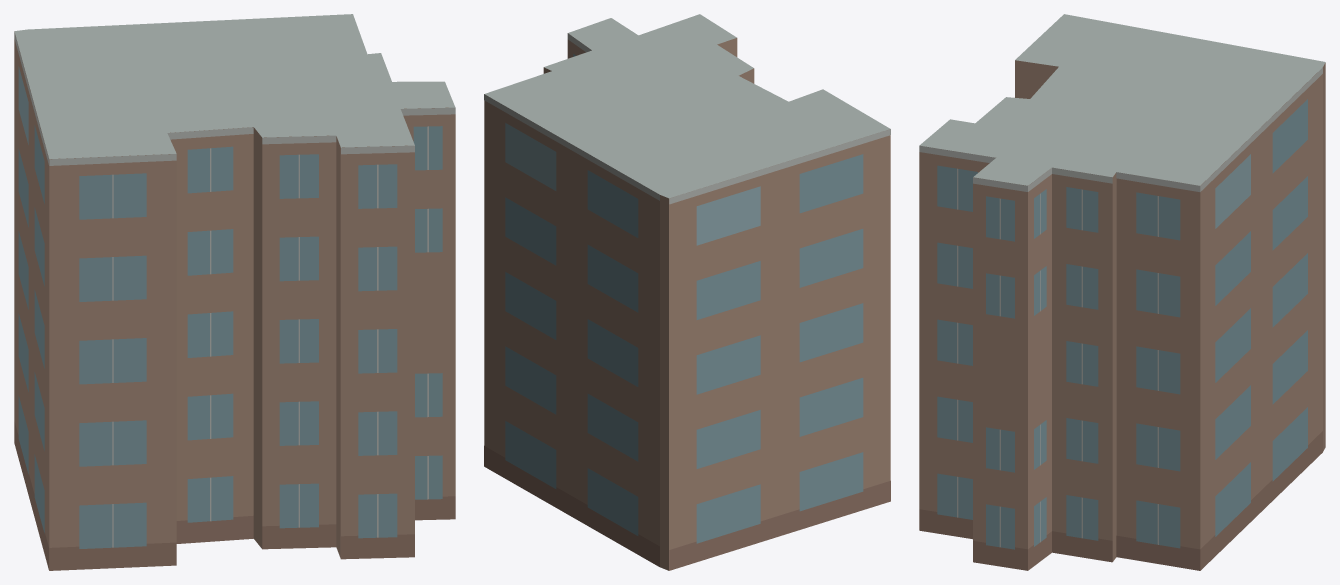
Rendered from survey-upis-32881993.glb.
3 views of the same model, side by side, from view 1: azimuth 30°, elevation 25°; view 2: azimuth 150°, elevation 25°; view 3: azimuth 270°, elevation 25° (orthographic). The views are drawn at different scales.
Visible parts, largest first — view 1: survey-upis-32881993.tmp; view 2: survey-upis-32881993.tmp; view 3: survey-upis-32881993.tmp.
Boxes of the visible parts, bbox=[...] form: survey-upis-32881993.tmp: bbox=[14, 14, 455, 570]; survey-upis-32881993.tmp: bbox=[484, 14, 890, 570]; survey-upis-32881993.tmp: bbox=[919, 14, 1325, 570].
Size of the model in its own units: 14.08 by 14.7 by 14.07.
